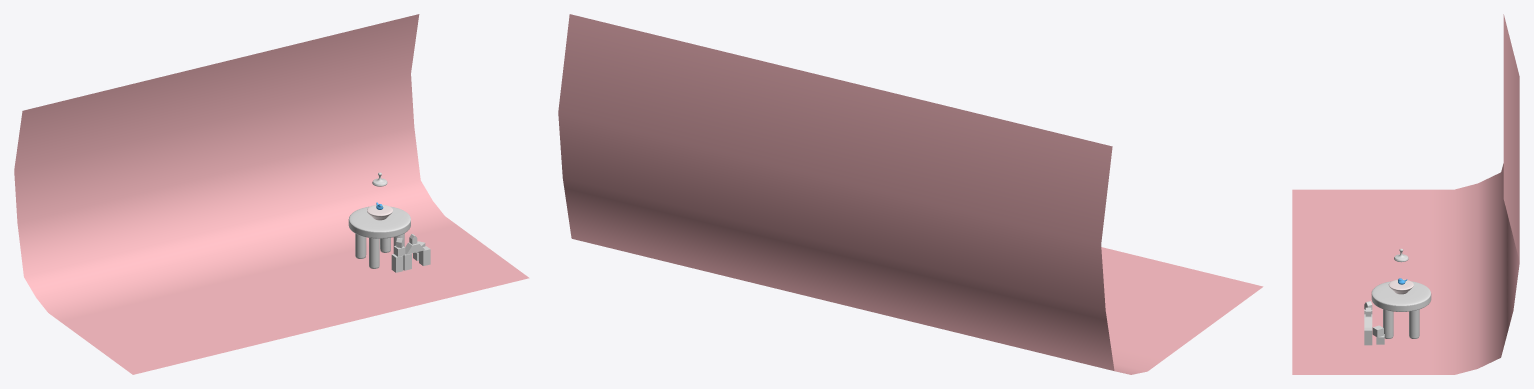
The model's file is childroom.fbx.
3 views of the same model, side by side, from view 1: azimuth 30°, elevation 25°; view 2: azimuth 150°, elevation 25°; view 3: azimuth 270°, elevation 25° (orthographic). The views are drawn at different scales.
Parts seen in each view (by area): view 1: Plane, Circle.002, Circle.003; view 2: Plane; view 3: Plane, Circle.002, Circle.003, Circle.
Part boxes in pixels (<box>): Plane: <box>14,14,529,374</box>; Circle.002: <box>348,206,410,238</box>; Circle.003: <box>355,233,404,268</box>; Plane: <box>558,14,1263,374</box>; Plane: <box>1292,14,1519,374</box>; Circle.002: <box>1371,281,1431,311</box>; Circle.003: <box>1383,309,1419,338</box>; Circle: <box>1388,279,1413,294</box>.
Bounding box in the file's own units: 10873 × 4800 × 5639.
